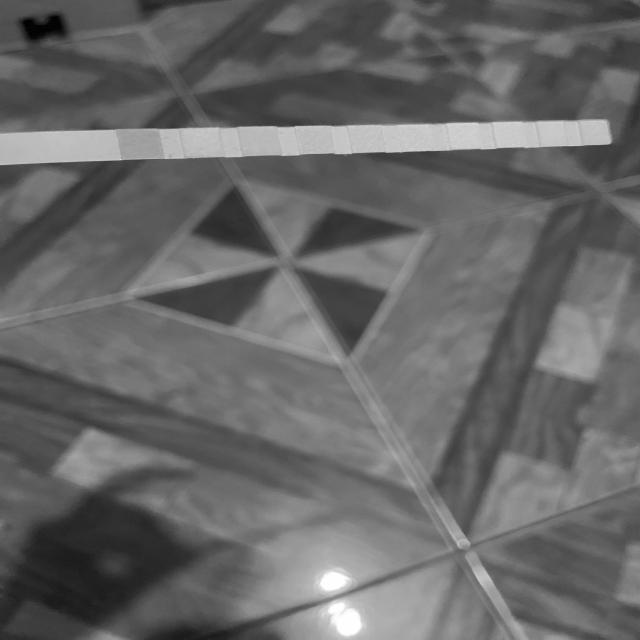Bilirubin: (184, 128, 220, 158)
Blood: (352, 126, 382, 152)
Glucose: (122, 130, 159, 159)
Ketone: (244, 128, 276, 156)
Leukocytes: (582, 121, 606, 145)
Nitrite: (540, 122, 566, 146)
Protein: (451, 123, 478, 149)
SpGravity: (300, 126, 332, 154)
Urobilinogen: (497, 123, 522, 147)
background: (0, 0, 640, 640)
pH: (402, 125, 430, 151)
strip: (1, 120, 611, 165)
